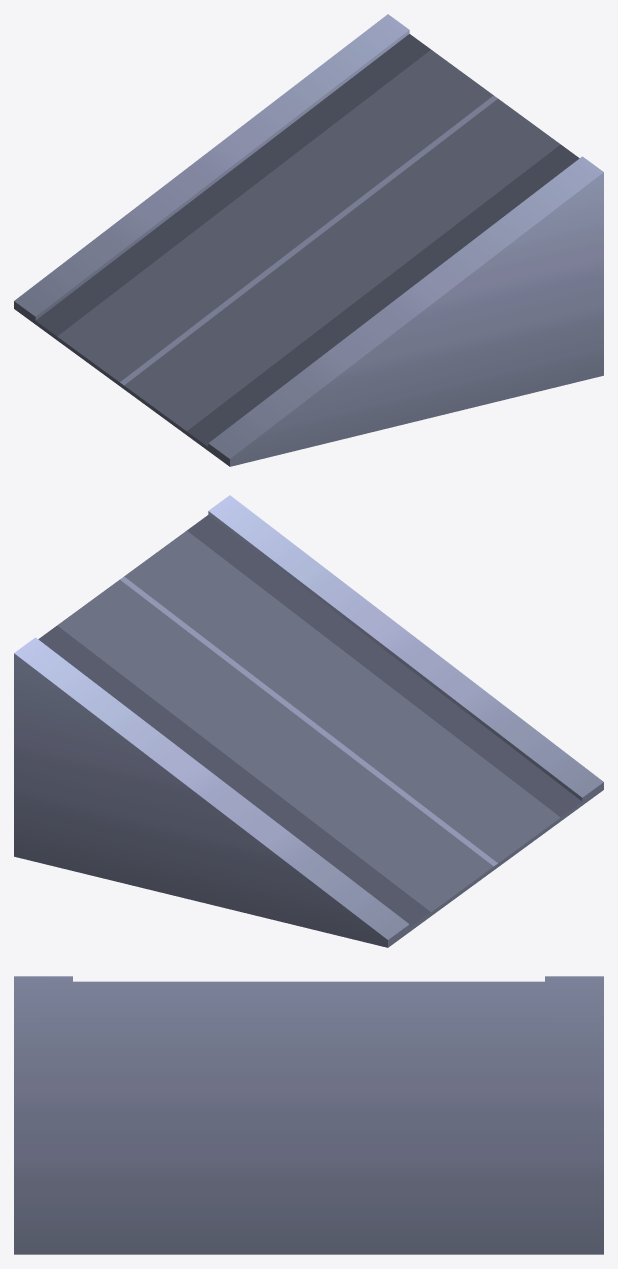
File: road-slant-high.glb
The picture shows the model from 3 angles, top to bottom: view 1: azimuth 30°, elevation 25°; view 2: azimuth 150°, elevation 25°; view 3: azimuth 270°, elevation 25°; orthographic projection. The views are drawn at different scales.
Visible parts, largest first — view 1: road-slant-high; view 2: road-slant-high; view 3: road-slant-high.
Boxes of the visible parts, left/top/right/bottom form: road-slant-high: left=14, top=14, right=603, bottom=466; road-slant-high: left=14, top=495, right=603, bottom=947; road-slant-high: left=14, top=976, right=603, bottom=1254.
Bounding box in the file's own units: 1 × 0.52 × 1.
1 material, 1 textured.
